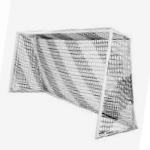goals: (8, 26, 139, 140)
